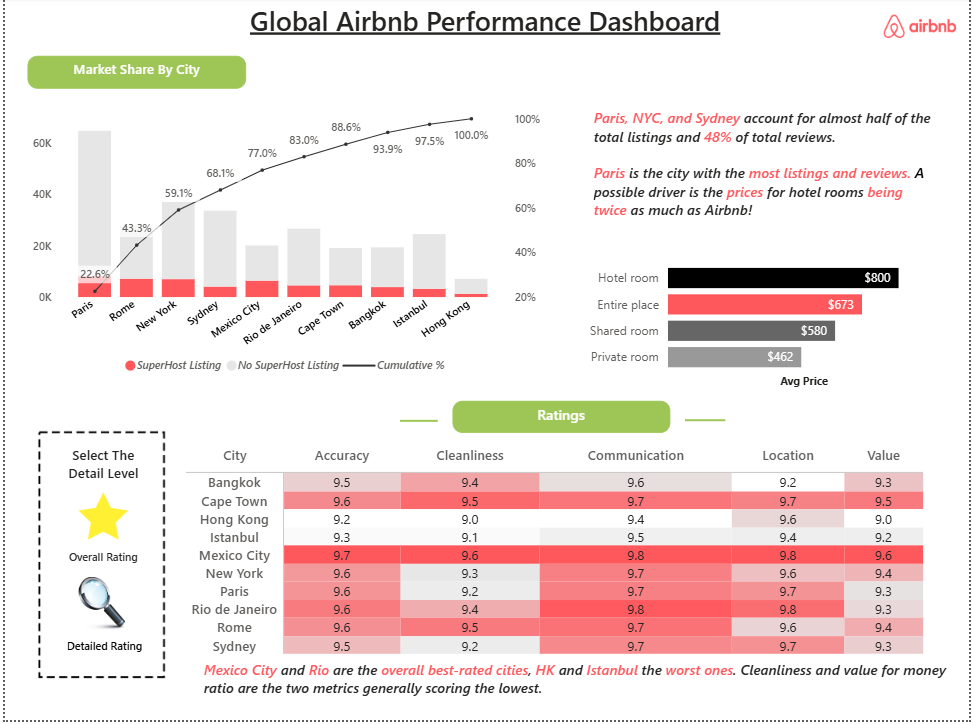

The page's visual inventory and layout, read from the dashboard file:
{"tool":"powerbi","page":{"name":"Ratings","canvas":[960,720],"ordinal":1},"visuals":[{"type":"textbox","box":[238.7,0,482.7,58.5],"z":0},{"type":"image","box":[874.5,11.2,72.1,36.1],"z":1000},{"type":"textbox","box":[22.5,58.8,217.5,32.5],"z":2000},{"type":"lineStackedColumnComboChart","fields":{"Category":["Listings.city"],"Y":["Listings.SuperHost Listing","Listings.No SuperHost Listing"],"Y2":["Listings.Cumulative %"]},"box":[22.5,106.2,516.2,278.8],"z":3000},{"type":"barChart","title":"Avg Price ","fields":{"Category":["Listings.room_type"],"Y":["Listings.Avg Price"]},"box":[571.2,246.2,360,138.8],"z":4000},{"type":"textbox","box":[581.2,106.2,350,140],"z":5000},{"type":"textbox","box":[445.8,401.4,216.4,32.3],"z":6000},{"type":"shape","box":[392.5,401.5,37.5,40],"z":7000},{"type":"shape","box":[676.2,401.5,40,38.8],"z":8000},{"type":"image","box":[0,401.2,192.5,306.2],"z":9000},{"type":"textbox","box":[52.5,441.2,91.2,48.8],"z":10000},{"type":"columnChart","fields":{"Category":["Listings.city"],"Y":["Listings.Avg Rating"]},"box":[176.2,445,756.2,218.8],"z":11000},{"type":"image","box":[52.5,490,91.2,52.5],"z":11000,"group":"g1"},{"type":"image","box":[47.5,577.5,96.2,53.8],"z":12000,"group":"g2"},{"type":"group","id":"g1","title":"Group 1","box":[47.5,490,101.2,87.5],"z":13000},{"type":"textbox","box":[47.5,542.5,101.2,35],"z":13002,"group":"g1"},{"type":"textbox","box":[48.7,631.3,101.2,35],"z":13003,"group":"g2"},{"type":"group","id":"g2","title":"Group 2","box":[47.5,577.5,102.5,88.8],"z":14000},{"type":"textbox","box":[192.5,653.8,755,53.8],"z":15000},{"type":"textbox","box":[751.2,367.5,87.5,36.2],"z":16000}]}

Visuals, with their boxes in screenshot pixels (x1, y1, x2, y2), scaled from the page's 960x720 canvas onto the 972x725 screenshot:
textbox: [left=242, top=0, right=730, bottom=59]
image: [left=885, top=11, right=958, bottom=48]
textbox: [left=23, top=59, right=243, bottom=92]
lineStackedColumnComboChart - Listings.city x Listings.SuperHost Listing: [left=23, top=107, right=545, bottom=388]
"Avg Price " barChart: [left=578, top=248, right=943, bottom=388]
textbox: [left=588, top=107, right=943, bottom=248]
textbox: [left=451, top=404, right=670, bottom=437]
shape: [left=397, top=404, right=435, bottom=445]
shape: [left=685, top=404, right=725, bottom=443]
image: [left=0, top=404, right=195, bottom=712]
textbox: [left=53, top=444, right=145, bottom=493]
columnChart - Listings.city x Listings.Avg Rating: [left=178, top=448, right=944, bottom=668]
image: [left=53, top=493, right=145, bottom=546]
image: [left=48, top=582, right=145, bottom=636]
"Group 1" group: [left=48, top=493, right=151, bottom=582]
textbox: [left=48, top=546, right=151, bottom=582]
textbox: [left=49, top=636, right=152, bottom=671]
"Group 2" group: [left=48, top=582, right=152, bottom=671]
textbox: [left=195, top=658, right=959, bottom=713]
textbox: [left=761, top=370, right=849, bottom=407]
